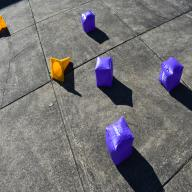cone: (50, 57, 71, 82), (0, 15, 7, 32)
cube: (106, 116, 134, 165), (159, 56, 184, 93), (95, 56, 113, 87), (81, 9, 96, 34)
